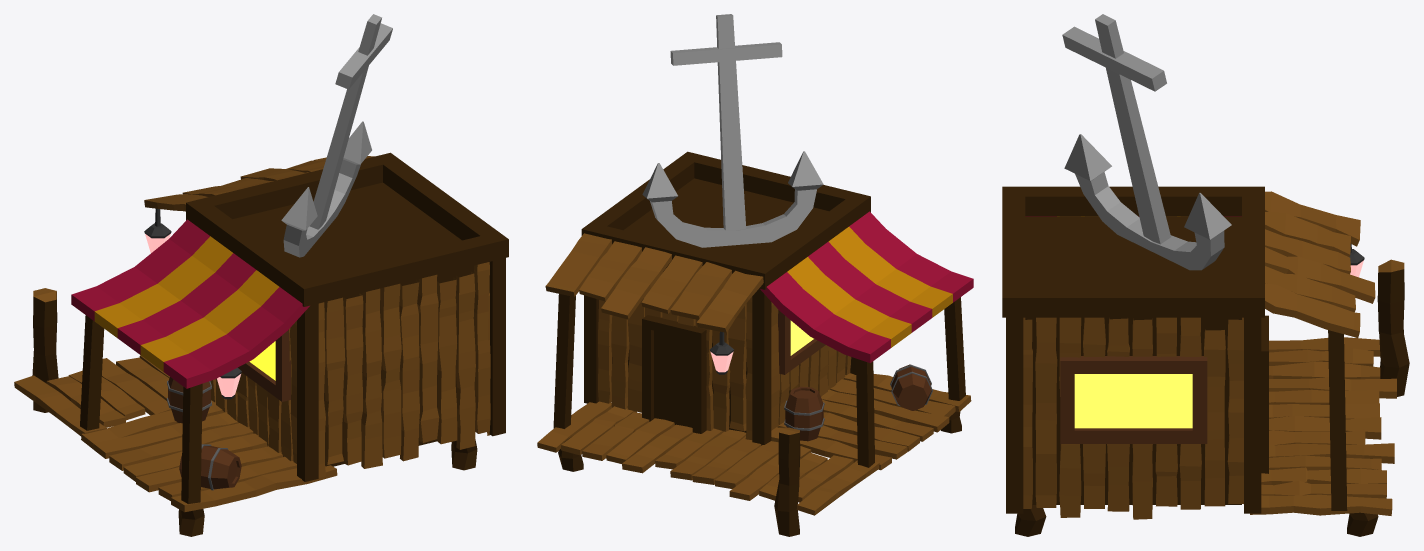
Rendered from Market.fbx.
3 renders of one model, left to right at view 1: azimuth 30°, elevation 25°; view 2: azimuth 150°, elevation 25°; view 3: azimuth 270°, elevation 25°, orthographic. The views are drawn at different scales.
Visible parts, largest first — view 1: Cube.358; view 2: Cube.358; view 3: Cube.358.
Part boxes in pixels (x1,y1,x2,y2): Cube.358: (14, 14, 508, 536); Cube.358: (537, 14, 973, 536); Cube.358: (1002, 14, 1409, 536).
Bounding box in the file's own units: 3.86 × 4.91 × 3.76.
